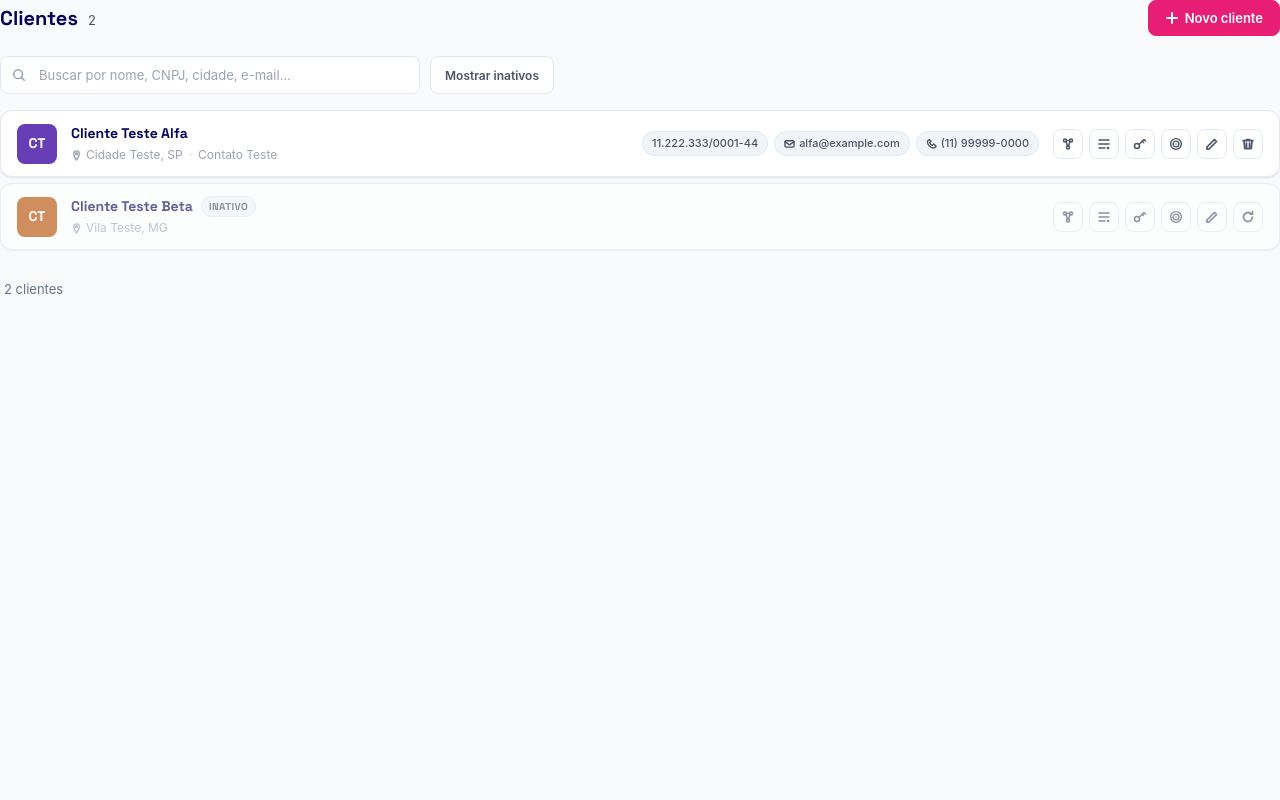
ClientsPage › falha genérica ao excluir avisa com um alerta
Click the button named "Excluir" at (1248, 144), box top-left (1233, 129), bottom-right (1263, 159)
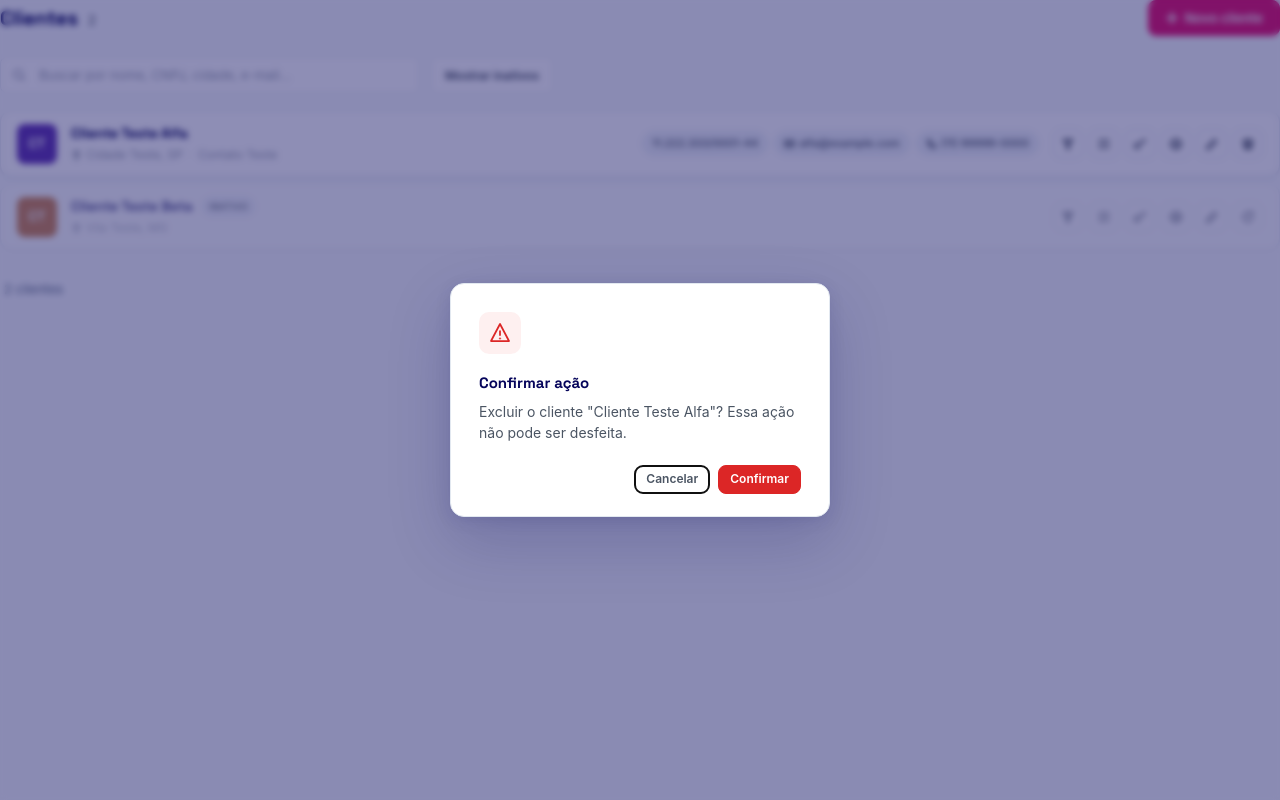
Click the button "Confirmar" at (760, 479), box top-left (718, 465), bottom-right (801, 494)
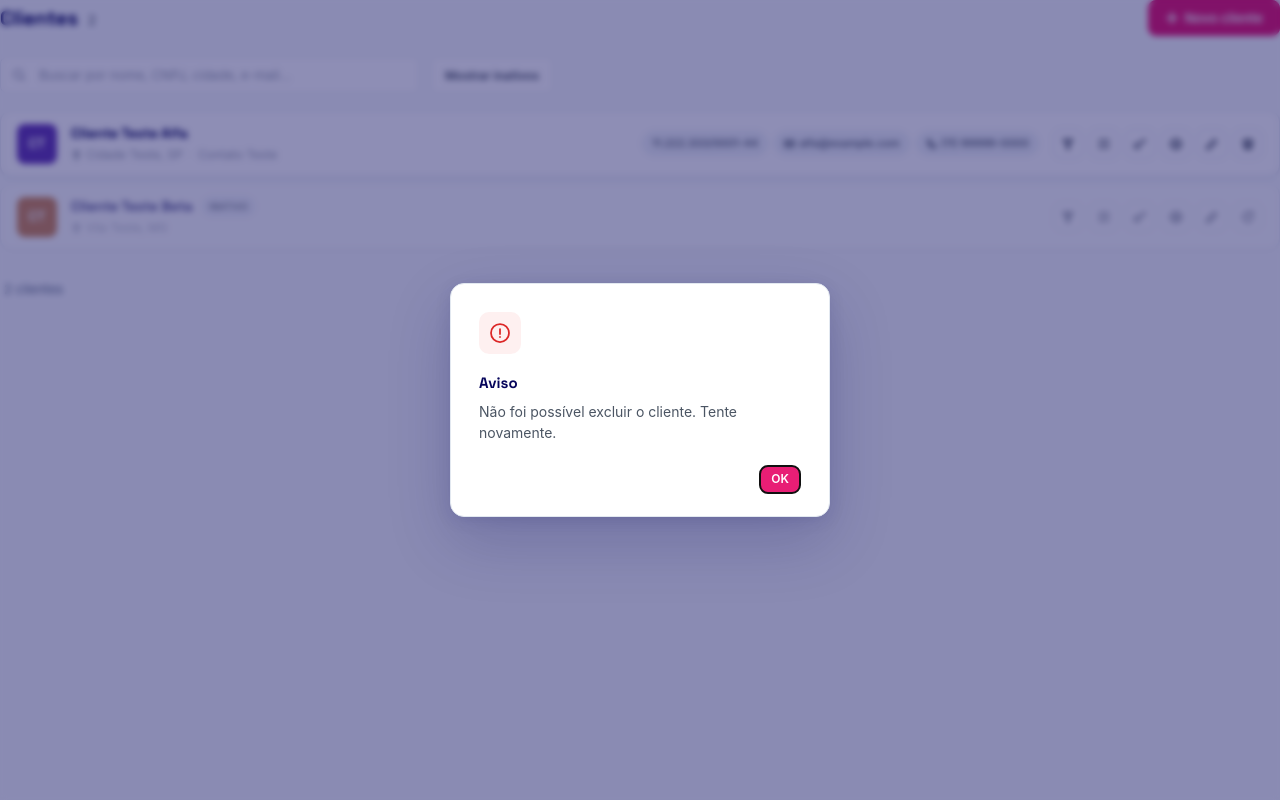
Check: the text "Não foi possível excluir o cliente. Tente novamente." is shown, box top-left (479, 403), bottom-right (737, 441)
